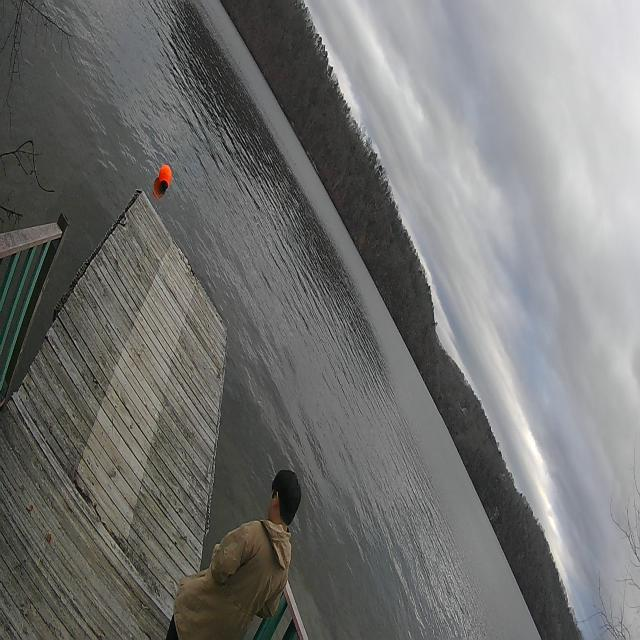Buoy: (157, 158, 174, 197)
